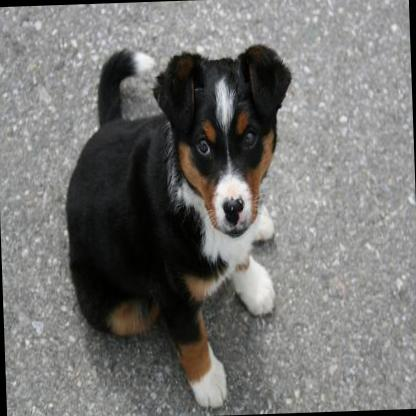Appenzeller: (59, 40, 303, 414)
